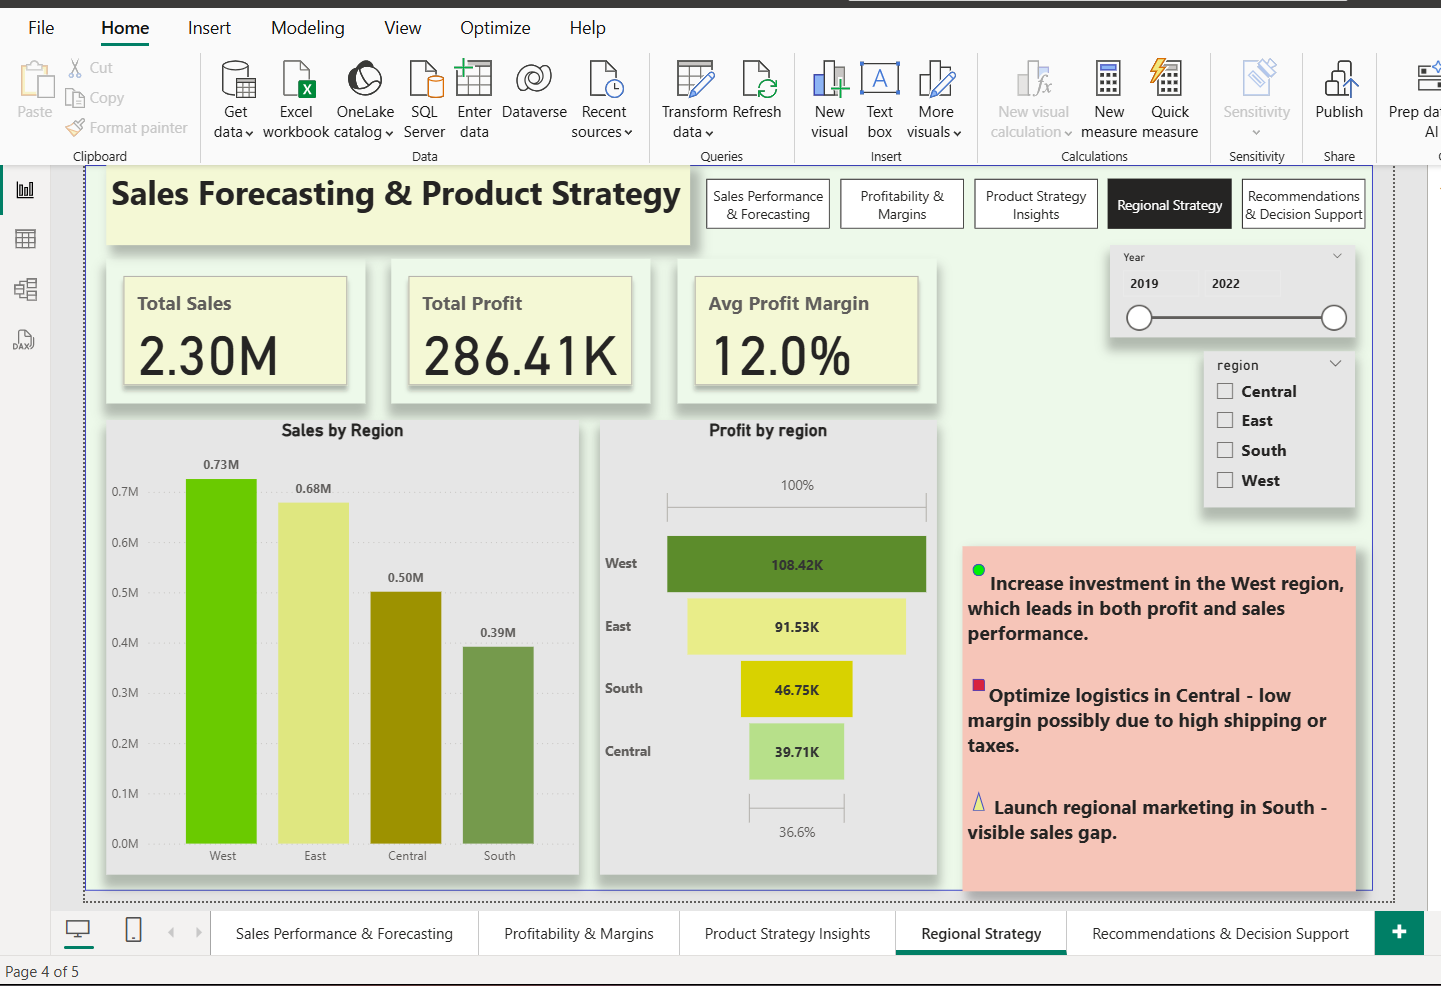

This screenshot's page, from the dashboard's own definition file:
{"tool":"powerbi","page":{"name":"Regional Strategy","canvas":[1280,720],"ordinal":3},"visuals":[{"type":"shape","box":[0,0,1260,710],"z":0},{"type":"group","id":"g1","title":"Group 4","box":[858.4,373,385.2,337.5],"z":0,"group":"g5"},{"type":"group","id":"g2","title":"Group 3","box":[858.4,373,385.2,337.5],"z":0,"group":"g1"},{"type":"group","id":"g3","title":"Group 2","box":[858.4,373,385.2,337.5],"z":0,"group":"g2"},{"type":"group","id":"g4","title":"Group 1","box":[858.4,373,385.2,337.5],"z":0,"group":"g3"},{"type":"textbox","box":[858.4,373,385.2,337.5],"z":0,"group":"g4"},{"type":"cardVisual","fields":{"Data":["Superstore-Cleaned_Data.Total Sales"]},"box":[20.6,91.9,253.9,141.3],"z":1000},{"type":"shape","box":[868.2,390.1,12.2,12.2],"z":1000,"group":"g2"},{"type":"shape","box":[868.2,502.6,12.2,12.2],"z":1000,"group":"g1"},{"type":"shape","box":[868.2,612.7,12.2,19.6],"z":1000,"group":"g5"},{"type":"textbox","box":[20.6,0,570.8,78.2],"z":2000},{"type":"cardVisual","fields":{"Data":["Superstore-Cleaned_Data.Total Profit"]},"box":[299.1,91.9,253.9,141.3],"z":3000},{"type":"cardVisual","fields":{"Data":["Superstore-Cleaned_Data.Avg Profit Margin"]},"box":[579.1,91.9,253.9,141.3],"z":4000},{"type":"pageNavigator","box":[607.9,13.7,649.1,49.4],"z":5000},{"type":"clusteredColumnChart","title":"Sales by Region","fields":{"Y":["Superstore-Cleaned_Data.Total Sales"],"Category":["Superstore-Cleaned_Data.region"]},"box":[20.6,249.7,462.4,444.6],"z":6000},{"type":"funnel","title":" Profit by region","fields":{"Category":["Superstore-Cleaned_Data.region"],"Y":["Superstore-Cleaned_Data.Total Profit"]},"box":[503.6,249.7,329.3,444.6],"z":7000},{"type":"slicer","fields":{"Values":["Superstore-Cleaned_Data.Year"]},"box":[1002.9,78.6,240,90],"z":8000},{"type":"slicer","fields":{"Values":["Superstore-Cleaned_Data.region"]},"box":[1094.4,182.2,148,152.9],"z":9000},{"type":"group","id":"g5","title":"Group 5","box":[858.4,373,385.2,337.5],"z":10010}]}

Visuals, with their boxes on the page's 1280x720 design canvas (x1, y1, x2, y2). These are canvas units, not pixel positions in the 1441x986 screenshot, which may show the page scaled, cropped or inside an application window:
shape: rect(0, 0, 1260, 710)
"Group 4" group: rect(858, 373, 1244, 710)
"Group 3" group: rect(858, 373, 1244, 710)
"Group 2" group: rect(858, 373, 1244, 710)
"Group 1" group: rect(858, 373, 1244, 710)
textbox: rect(858, 373, 1244, 710)
cardVisual - Superstore-Cleaned_Data.Total Sales: rect(21, 92, 274, 233)
shape: rect(868, 390, 880, 402)
shape: rect(868, 503, 880, 515)
shape: rect(868, 613, 880, 632)
textbox: rect(21, 0, 591, 78)
cardVisual - Superstore-Cleaned_Data.Total Profit: rect(299, 92, 553, 233)
cardVisual - Superstore-Cleaned_Data.Avg Profit Margin: rect(579, 92, 833, 233)
pageNavigator: rect(608, 14, 1257, 63)
"Sales by Region" clusteredColumnChart: rect(21, 250, 483, 694)
" Profit by region" funnel: rect(504, 250, 833, 694)
slicer - Superstore-Cleaned_Data.Year: rect(1003, 79, 1243, 169)
slicer - Superstore-Cleaned_Data.region: rect(1094, 182, 1242, 335)
"Group 5" group: rect(858, 373, 1244, 710)
